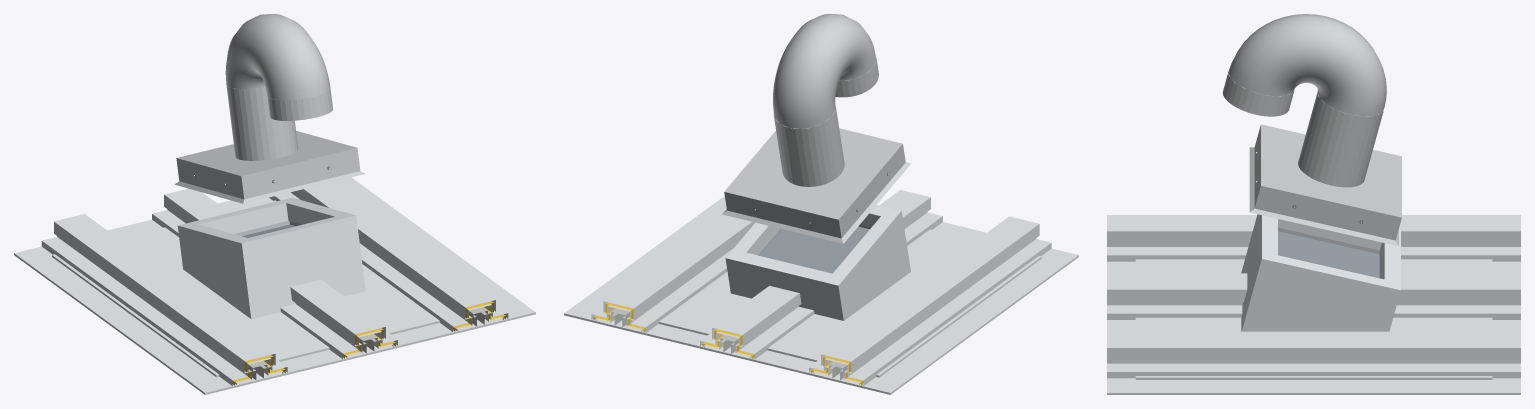
The model's file is metal-curb-vent-sseam-3in12-CS-13-MP.glb.
The picture shows the model from 3 angles, left to right: view 1: azimuth 30°, elevation 25°; view 2: azimuth 150°, elevation 25°; view 3: azimuth 270°, elevation 25°; orthographic projection. The views are drawn at different scales.
Visible parts, largest first — view 1: topcoat__topcoat_apron_dn, topcoat__topcoat_curb_wrap, topcoat__topcoat_apron_up, existing__unit_bend, topcoat__topcoat_curb_cap, topcoat__topcoat_field_dn, topcoat__topcoat_apron_l, existing__unit_counterflashing_drop, existing__unit_neck, topcoat__topcoat_field_up, topcoat__topcoat_apron_r, existing__unit_counterflashing_top (+9 smaller); view 2: topcoat__topcoat_apron_up, existing__unit_bend, existing__unit_counterflashing_top, topcoat__topcoat_apron_dn, topcoat__topcoat_curb_wrap, topcoat__topcoat_field_up, topcoat__topcoat_apron_l, topcoat__topcoat_curb_cap, existing__unit_neck, existing__unit_counterflashing_drop, topcoat__topcoat_apron_r, topcoat__topcoat_field_dn (+10 smaller); view 3: topcoat__topcoat_apron_dn, topcoat__topcoat_apron_up, existing__unit_bend, topcoat__topcoat_curb_wrap, topcoat__topcoat_apron_r, existing__unit_counterflashing_top, existing__unit_neck, topcoat__topcoat_curb_cap, existing__unit_counterflashing_drop, topcoat__topcoat_field_up, topcoat__topcoat_field_dn, existing__curb_interior (+11 smaller).
Part boxes in pixels (x1,y1,x2,y2): topcoat__topcoat_apron_dn: (164,252,482,377); topcoat__topcoat_curb_wrap: (178,218,365,319); topcoat__topcoat_apron_up: (52,181,369,294); existing__unit_bend: (225,14,330,100); topcoat__topcoat_curb_cap: (177,197,358,260); topcoat__topcoat_field_dn: (139,264,535,394); topcoat__topcoat_apron_l: (104,262,247,338); existing__unit_counterflashing_drop: (176,133,360,199); existing__unit_neck: (226,86,298,160); topcoat__topcoat_field_up: (14,177,409,302); topcoat__topcoat_apron_r: (349,208,429,287); existing__unit_counterflashing_top: (176,131,356,176); topcoat__topcoat_apron_up: (617,254,930,377); existing__unit_bend: (773,14,876,128); existing__unit_counterflashing_top: (725,128,902,219); topcoat__topcoat_apron_dn: (879,199,1041,296); topcoat__topcoat_curb_wrap: (726,213,910,320); topcoat__topcoat_field_up: (564,266,954,394); topcoat__topcoat_apron_l: (848,263,989,339); topcoat__topcoat_curb_cap: (725,204,901,299); existing__unit_neck: (773,105,844,186); existing__unit_counterflashing_drop: (724,129,905,238); topcoat__topcoat_apron_r: (668,214,754,288); topcoat__topcoat_field_dn: (688,196,1078,303); topcoat__topcoat_apron_dn: (1135,215,1248,379); topcoat__topcoat_apron_up: (1379,215,1492,379); existing__unit_bend: (1228,14,1386,116); topcoat__topcoat_curb_wrap: (1241,215,1399,331); topcoat__topcoat_apron_r: (1248,331,1379,379); existing__unit_counterflashing_top: (1261,124,1401,217); existing__unit_neck: (1298,92,1384,187); topcoat__topcoat_curb_cap: (1257,214,1400,292); existing__unit_counterflashing_drop: (1254,124,1401,240); topcoat__topcoat_field_up: (1379,261,1520,394); topcoat__topcoat_field_dn: (1107,261,1248,394); existing__curb_interior: (1278,231,1379,278).
Bounding box in the file's own units: 1.83 × 1.42 × 1.83.
